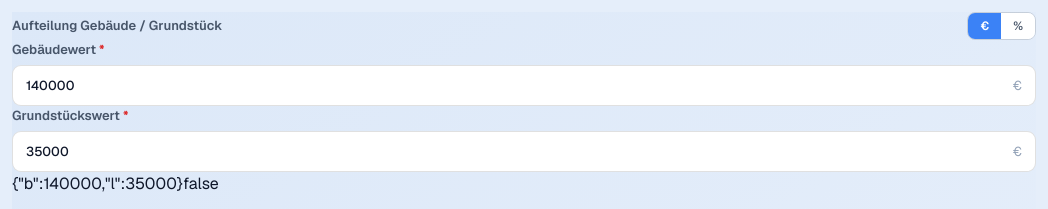
Test: BuildingShareFields › shows the current share when switching to percent and hides the euro inputs
Click the button "%" at (1018, 26), box [1001, 13, 1035, 39]
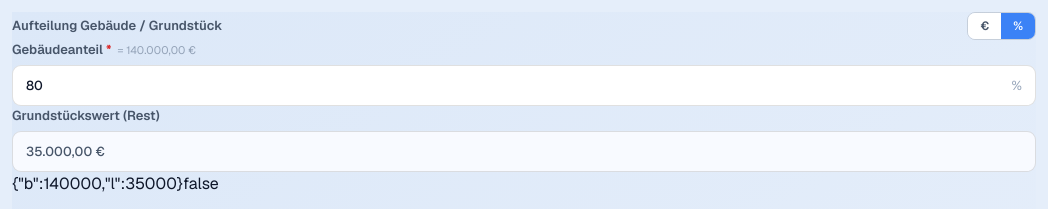
Expected: the field labelled "Gebäudeanteil *= 140.000,00 € %" holds "80", [13, 66, 1012, 105]
Expected: the field labelled "Gebäudewert" is gone
